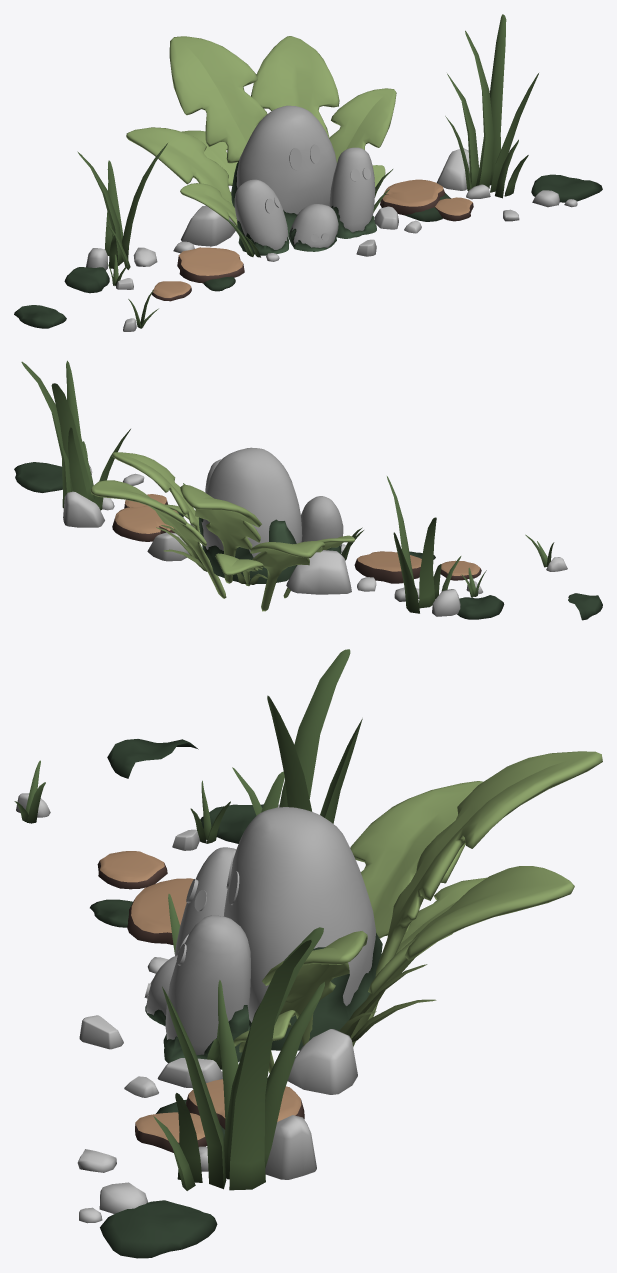
Rendered from SM_Diorama_03.fbx.
3 renders of one model, top to bottom at view 1: azimuth 30°, elevation 25°; view 2: azimuth 150°, elevation 25°; view 3: azimuth 270°, elevation 25°, orthographic. The views are drawn at different scales.
Visible parts, largest first — view 1: SM_DandelionLeaves, SM_Grass_04, SM_Stone_01, SM_Rocks_05, SM_Log_01, SM_MossPatch_01a9, SM_Stone_03, SM_Stone_02, SM_Moss1, SM_Stone_04, SM_MossPatch_01a10; view 2: SM_DandelionLeaves, SM_Grass_04, SM_Rocks_05, SM_Stone_01, SM_Log_01, SM_MossPatch_01a9, SM_Moss1, SM_Stone_02, SM_MossPatch_01a10, SM_DandelionLeaf_02; view 3: SM_DandelionLeaves, SM_Grass_04, SM_Stone_01, SM_Rocks_05, SM_Log_01, SM_Stone_03, SM_MossPatch_01a9, SM_Moss1, SM_Stone_02, SM_DandelionLeaf_02, SM_MossPatch_01a10, SM_Stone_04.
Boxes of the visible parts, <box> form: SM_DandelionLeaves: <box>126,36,396,226</box>; SM_Grass_04: <box>77,14,538,328</box>; SM_Stone_01: <box>236,105,336,214</box>; SM_Rocks_05: <box>86,148,577,331</box>; SM_Log_01: <box>152,179,473,301</box>; SM_MossPatch_01a9: <box>14,174,602,328</box>; SM_Stone_03: <box>329,147,375,232</box>; SM_Stone_02: <box>234,179,288,249</box>; SM_Moss1: <box>231,161,376,255</box>; SM_Stone_04: <box>289,204,338,247</box>; SM_MossPatch_01a10: <box>64,267,109,293</box>; SM_DandelionLeaves: <box>90,452,355,611</box>; SM_Grass_04: <box>21,360,554,613</box>; SM_Rocks_05: <box>63,465,567,616</box>; SM_Stone_01: <box>201,447,302,557</box>; SM_Log_01: <box>112,494,481,583</box>; SM_MossPatch_01a9: <box>14,462,602,620</box>; SM_Moss1: <box>198,517,341,583</box>; SM_Stone_02: <box>301,496,343,546</box>; SM_MossPatch_01a10: <box>457,595,504,619</box>; SM_DandelionLeaf_02: <box>156,525,267,584</box>; SM_DandelionLeaves: <box>233,751,602,1072</box>; SM_Grass_04: <box>14,649,362,1190</box>; SM_Stone_01: <box>223,807,375,1022</box>; SM_Rocks_05: <box>16,793,357,1223</box>; SM_Log_01: <box>97,851,304,1152</box>; SM_Stone_03: <box>165,915,250,1055</box>; SM_MossPatch_01a9: <box>90,739,224,1258</box>; SM_Moss1: <box>145,933,382,1062</box>; SM_Stone_02: <box>175,847,236,955</box>; SM_DandelionLeaf_02: <box>339,933,452,1041</box>; SM_MossPatch_01a10: <box>200,804,263,843</box>; SM_Stone_04: <box>146,955,177,1015</box>.
Bounding box in the file's own units: 42.4 × 12.86 × 20.57.
